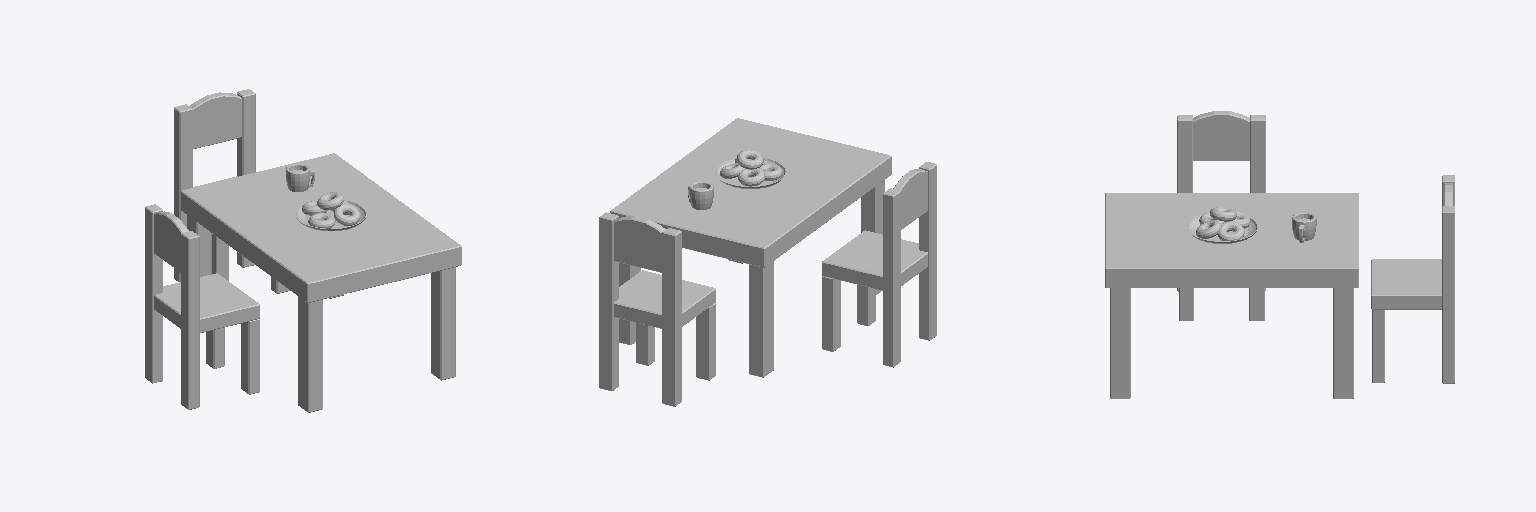
Rendered from red-kitchen4.obj.
3 renders of one model, left to right at view 1: azimuth 30°, elevation 25°; view 2: azimuth 150°, elevation 25°; view 3: azimuth 270°, elevation 25°, orthographic.
Parts seen in each view (by area): view 1: red_kitchen4:Mug2; view 2: red_kitchen4:Mug2; view 3: red_kitchen4:Mug2.
Boxes of the visible parts, box(x1,y1,x2,y2) form: red_kitchen4:Mug2: box(145, 89, 461, 412); red_kitchen4:Mug2: box(599, 118, 936, 406); red_kitchen4:Mug2: box(1105, 111, 1454, 398).
Size of the model in its own units: 261 by 186 by 335.